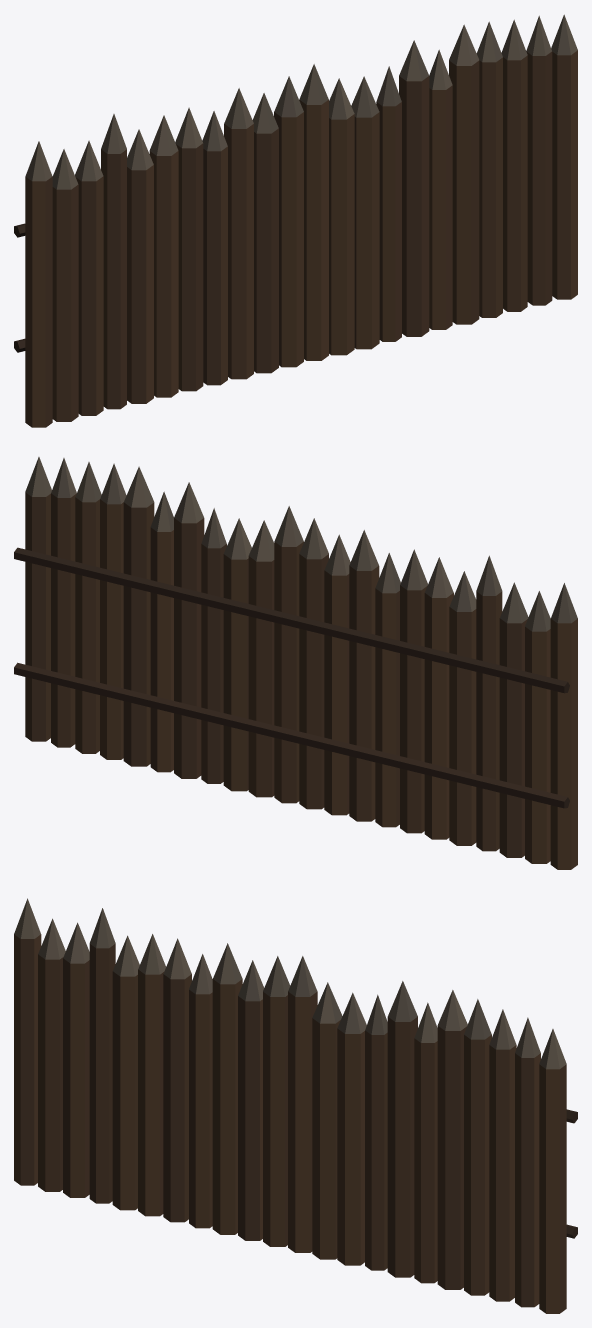
Rendered from walk_steppe_wall.glb.
3 renders of one model, top to bottom at view 1: azimuth 30°, elevation 25°; view 2: azimuth 150°, elevation 25°; view 3: azimuth 330°, elevation 25°, orthographic.
Parts seen in each view (by area): view 1: walk_steppe_wall; view 2: walk_steppe_wall; view 3: walk_steppe_wall.
Part boxes in pixels (x1,y1,x2,y2): walk_steppe_wall: (14, 14, 577, 427); walk_steppe_wall: (14, 457, 577, 869); walk_steppe_wall: (14, 898, 577, 1313).
Size of what is drawn, in the model's own units: 8 by 4.1 by 0.5104.
1 material, 1 textured.
